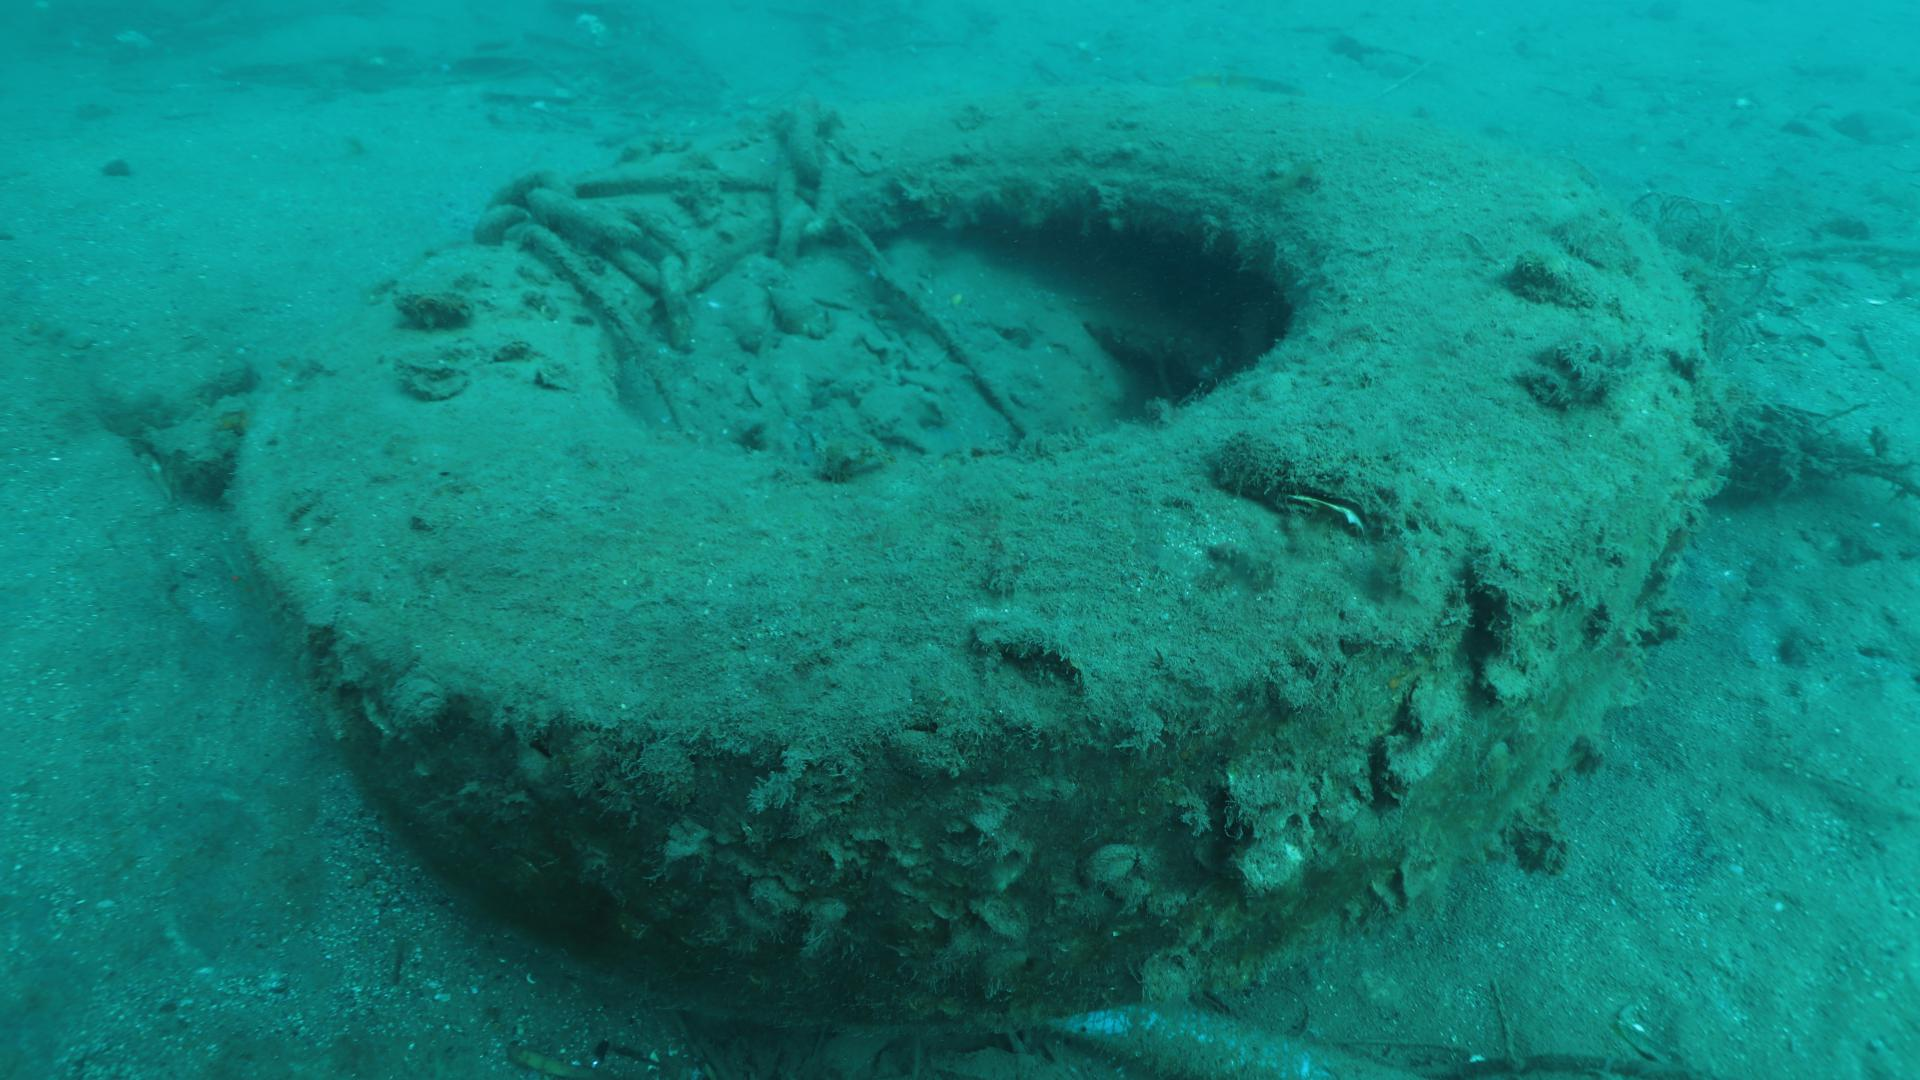tire: (233, 116, 1689, 1022)
